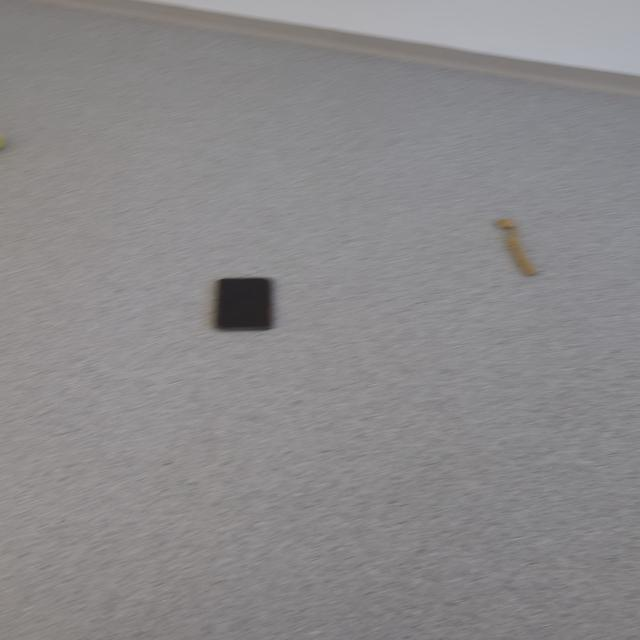phone: (216, 277, 271, 330)
toothbrush: (494, 218, 537, 276)
